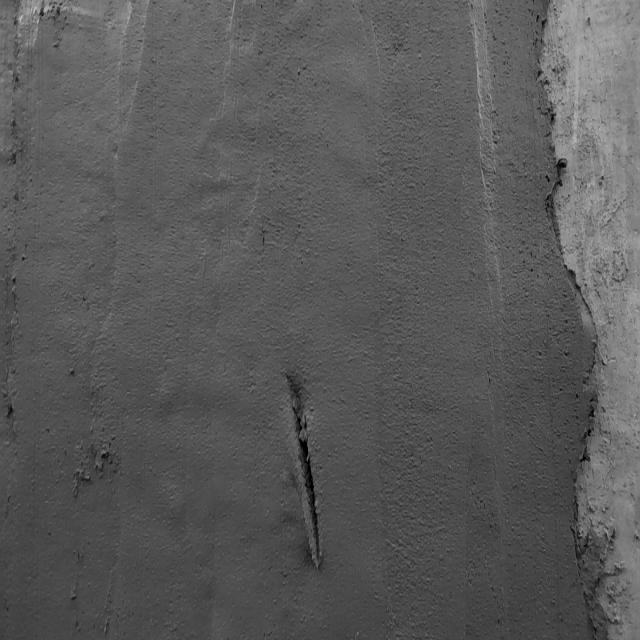trowels marks: (109, 16, 130, 311)
